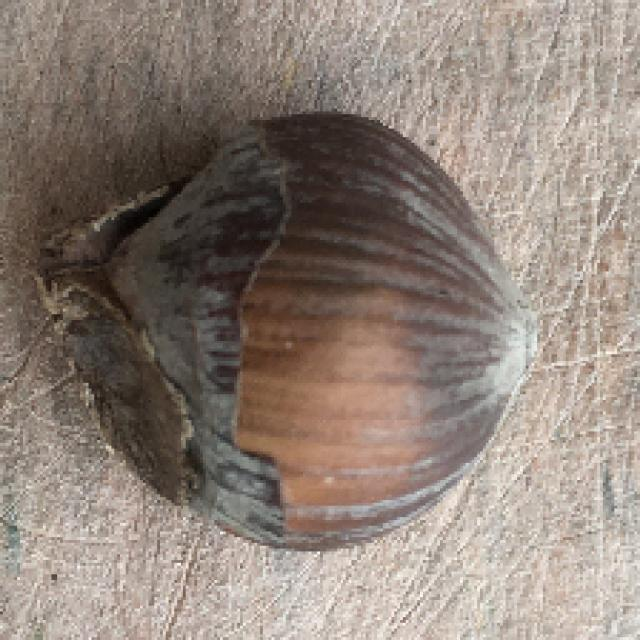damagedHazelnut: (31, 106, 537, 548)
